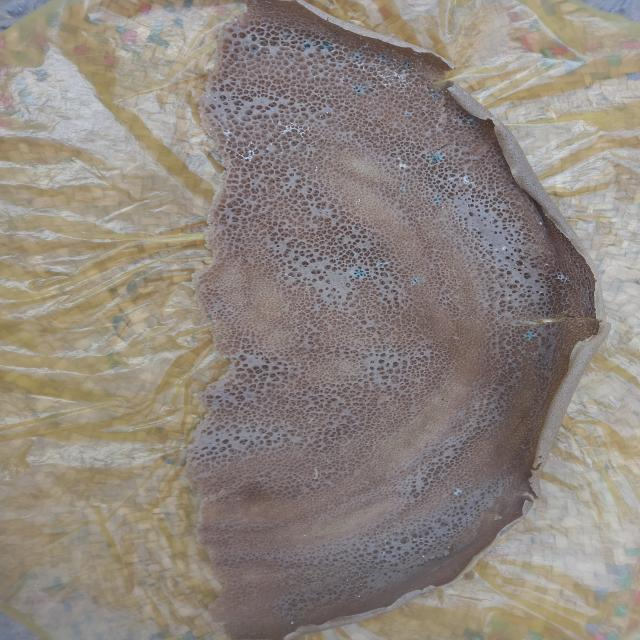injera_mold: (376, 70, 393, 86), (236, 150, 256, 160), (283, 124, 302, 134), (245, 42, 262, 53), (354, 269, 368, 282), (222, 130, 237, 141), (434, 197, 453, 205), (398, 73, 406, 91), (378, 57, 395, 65), (502, 250, 518, 258), (451, 491, 469, 498), (434, 153, 442, 168), (353, 52, 363, 64), (411, 278, 420, 290), (402, 60, 413, 69), (322, 43, 332, 52), (419, 83, 428, 92), (432, 89, 439, 100), (249, 33, 258, 41), (528, 332, 536, 341), (392, 71, 400, 79), (414, 536, 423, 542), (356, 85, 362, 93), (472, 228, 483, 232), (402, 162, 406, 172), (562, 275, 566, 285), (538, 219, 543, 227), (467, 117, 472, 125), (419, 552, 424, 560), (353, 201, 362, 205), (465, 174, 468, 184), (288, 622, 295, 626), (306, 44, 311, 49), (444, 544, 454, 546), (384, 546, 386, 555)
